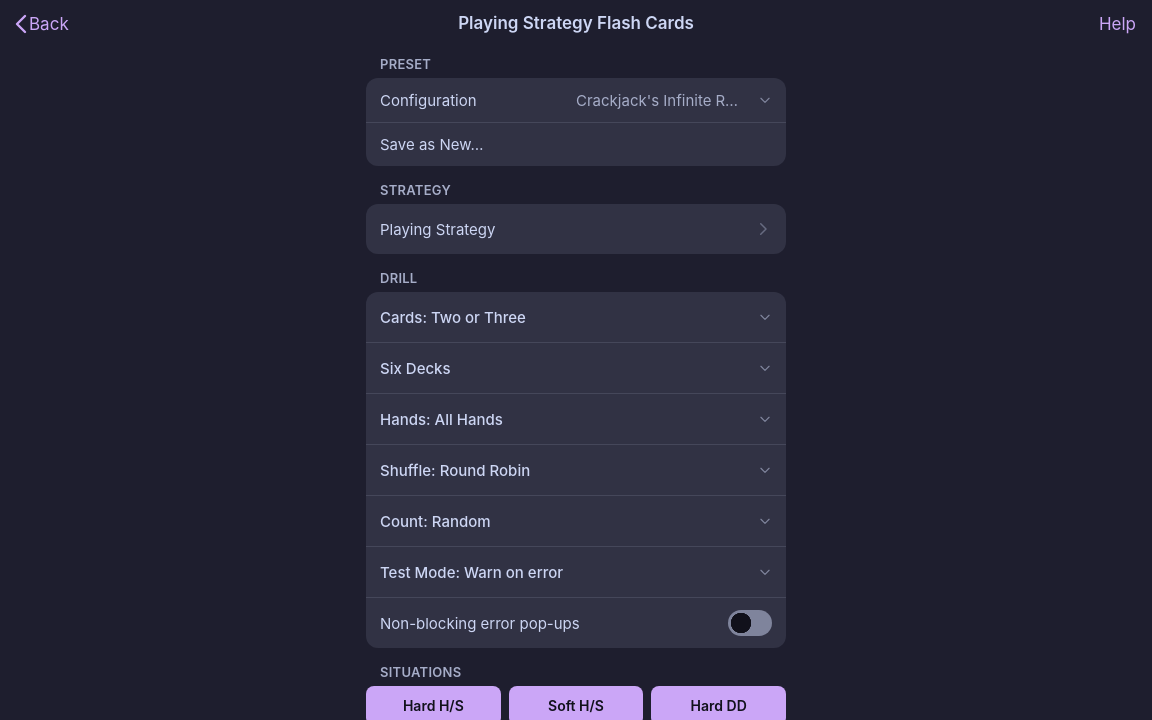
Scenario: drill options screens › flash shows a summary when Drill Errors is chosen
Select "Hands: Drill Errors" in the dropdown named "Hands" at coordinates (576, 419), box [366,394,786,444]
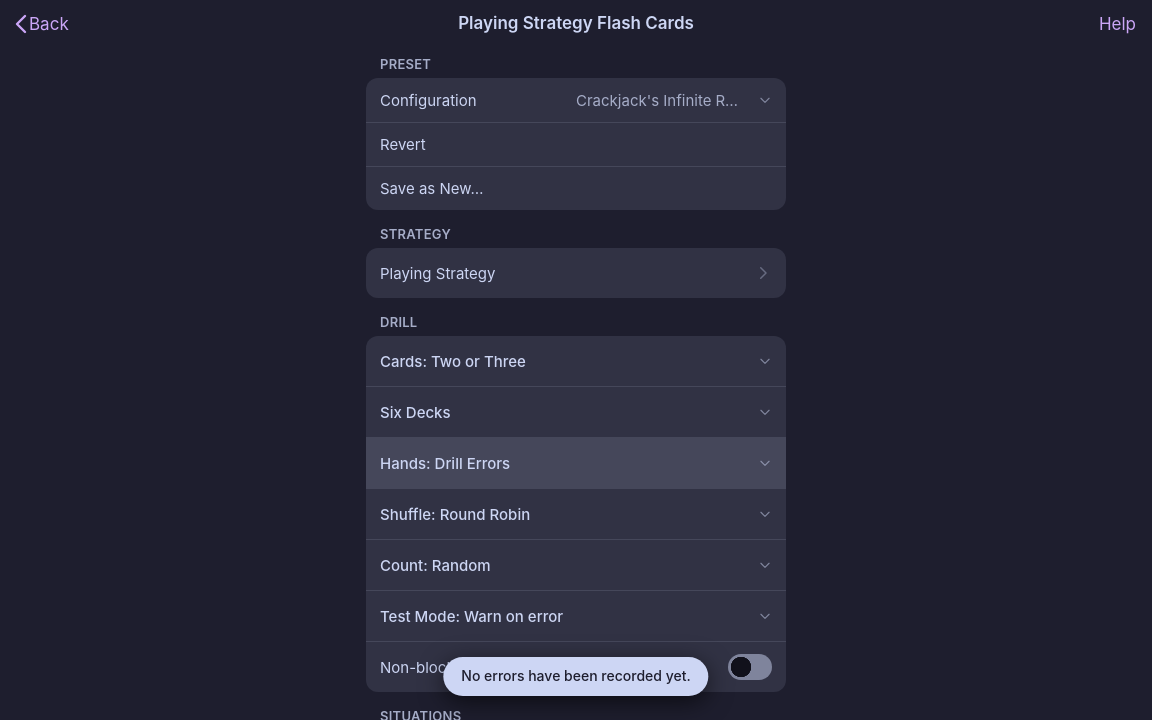
Now the text "No errors have been recorded yet." is shown, box [443,657,709,696]
